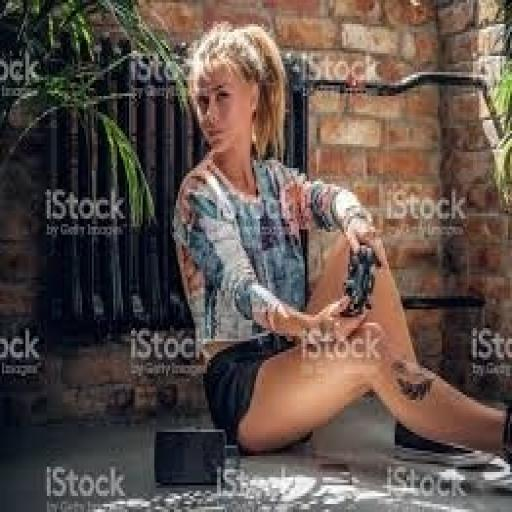texting: (168, 19, 510, 472)
